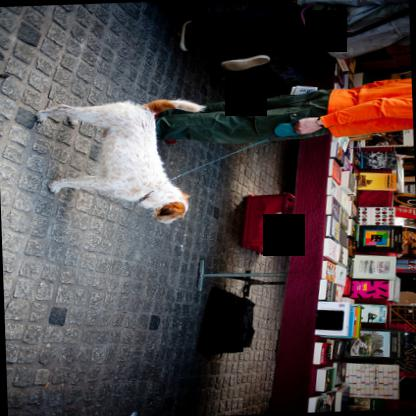handbag: (290, 0, 408, 46)
